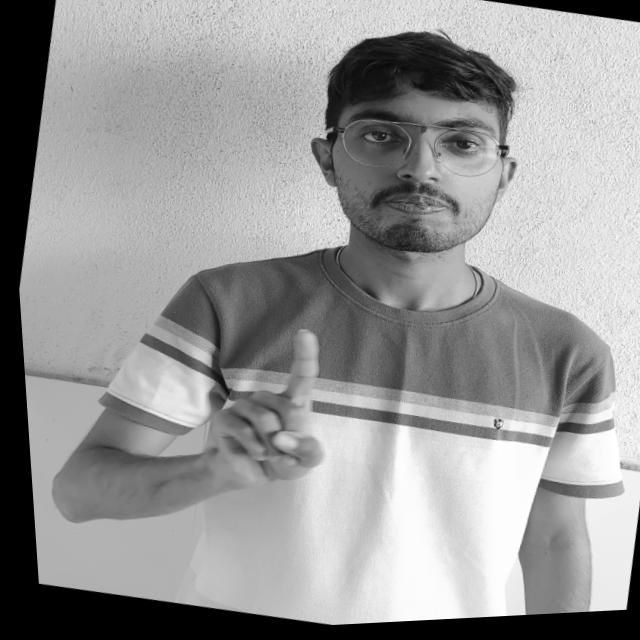Question: (140, 296, 384, 523)
